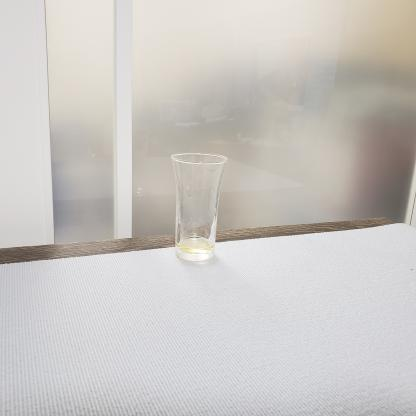glass: (164, 151, 238, 266)
